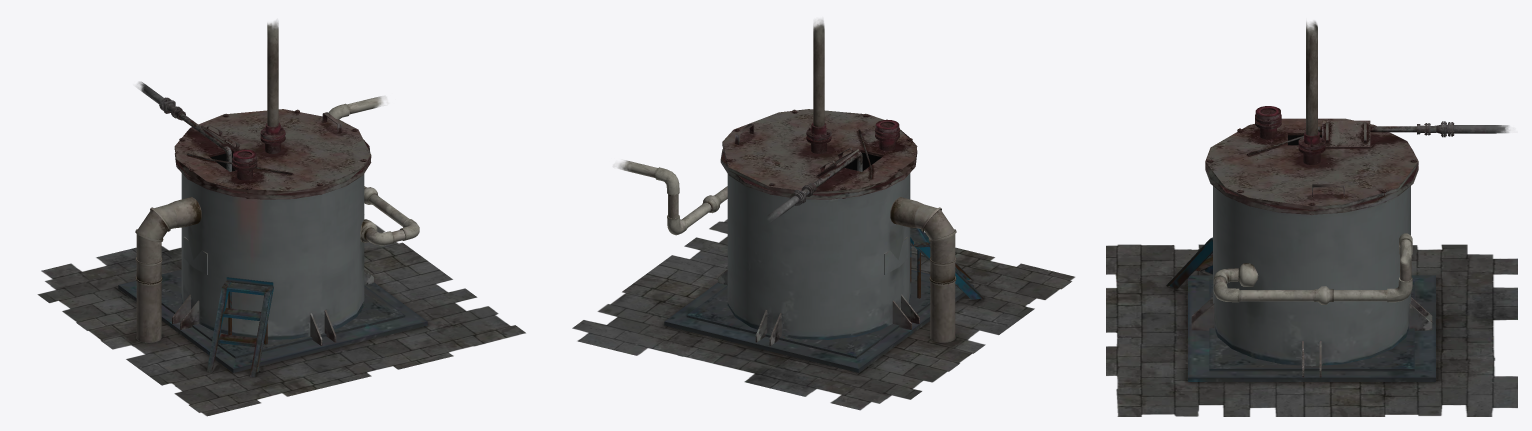
File: scene-machine.glb
3 renders of one model, left to right at view 1: azimuth 30°, elevation 25°; view 2: azimuth 150°, elevation 25°; view 3: azimuth 270°, elevation 25°, orthographic. The views are drawn at different scales.
Visible parts, largest first — view 1: base; view 2: base; view 3: base.
Part boxes in pixels (left/top/right/bottom): base: left=37, top=21, right=525, bottom=416; base: left=572, top=19, right=1074, bottom=410; base: left=1106, top=21, right=1517, bottom=416.
Size of the model in its own units: 2.97 by 2.53 by 3.
3 materials, 3 textured.
